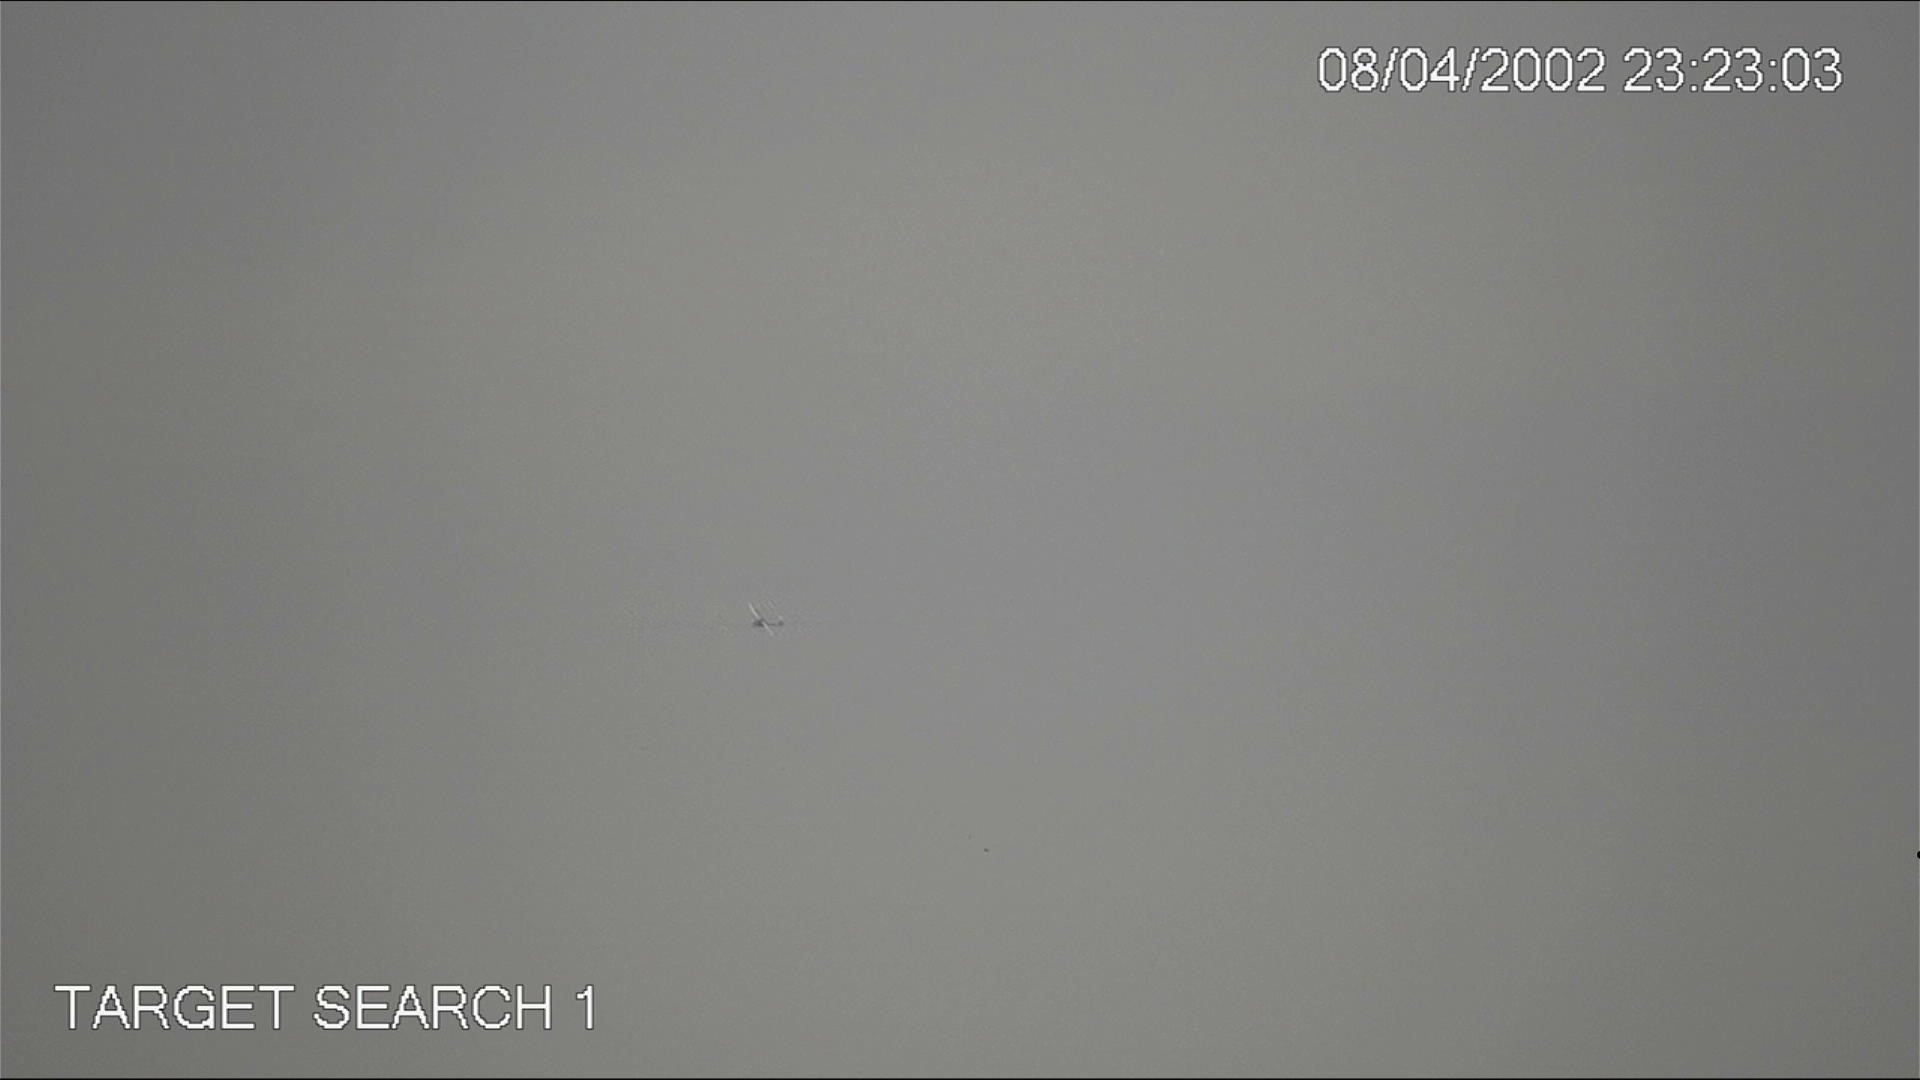SU_30: (746, 603, 793, 645)
